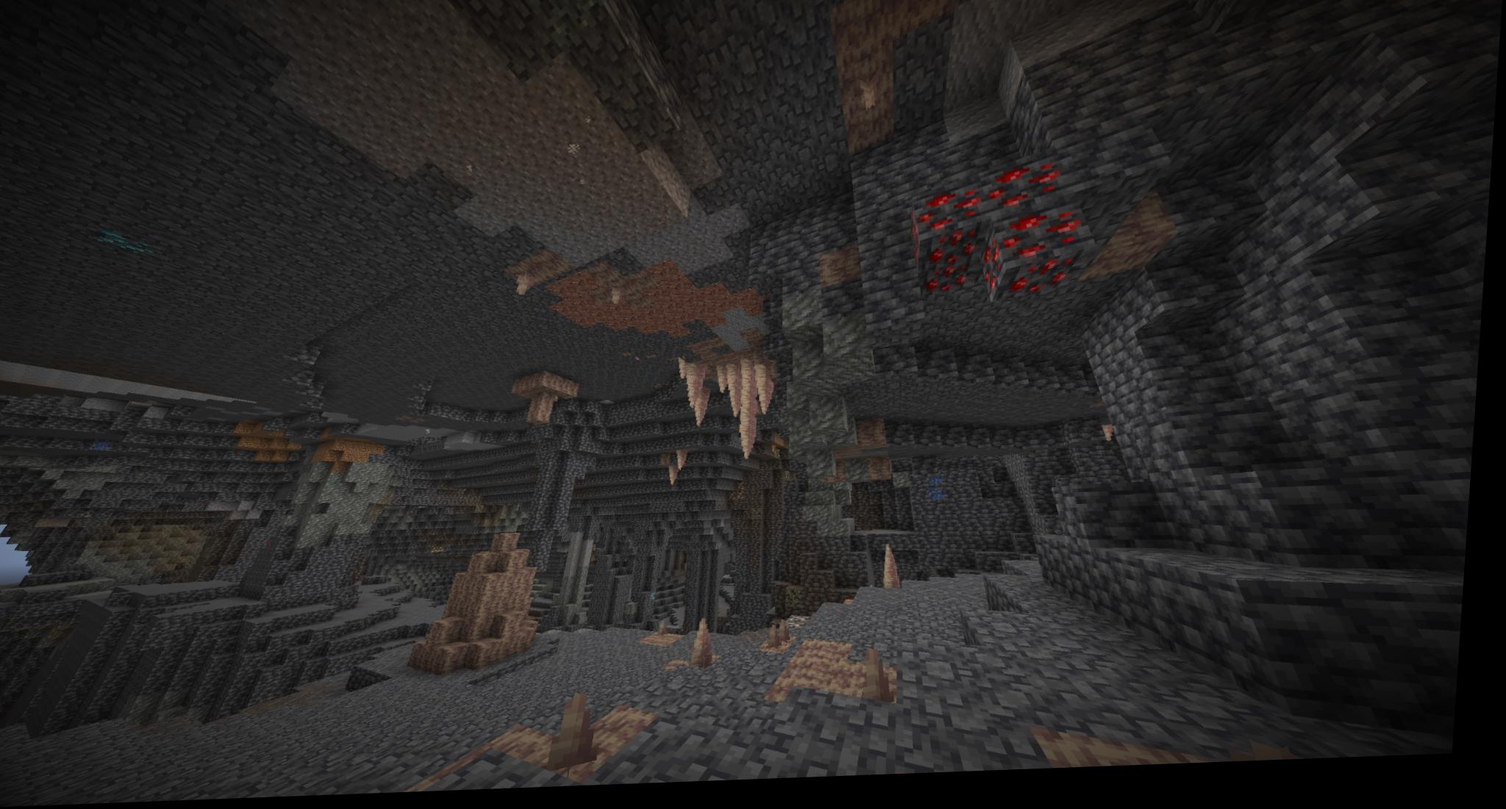diamond ore: (99, 224, 166, 270)
redstone ore: (985, 169, 1073, 225), (1003, 216, 1084, 266), (1010, 257, 1089, 308), (929, 239, 987, 301), (924, 197, 986, 235)
